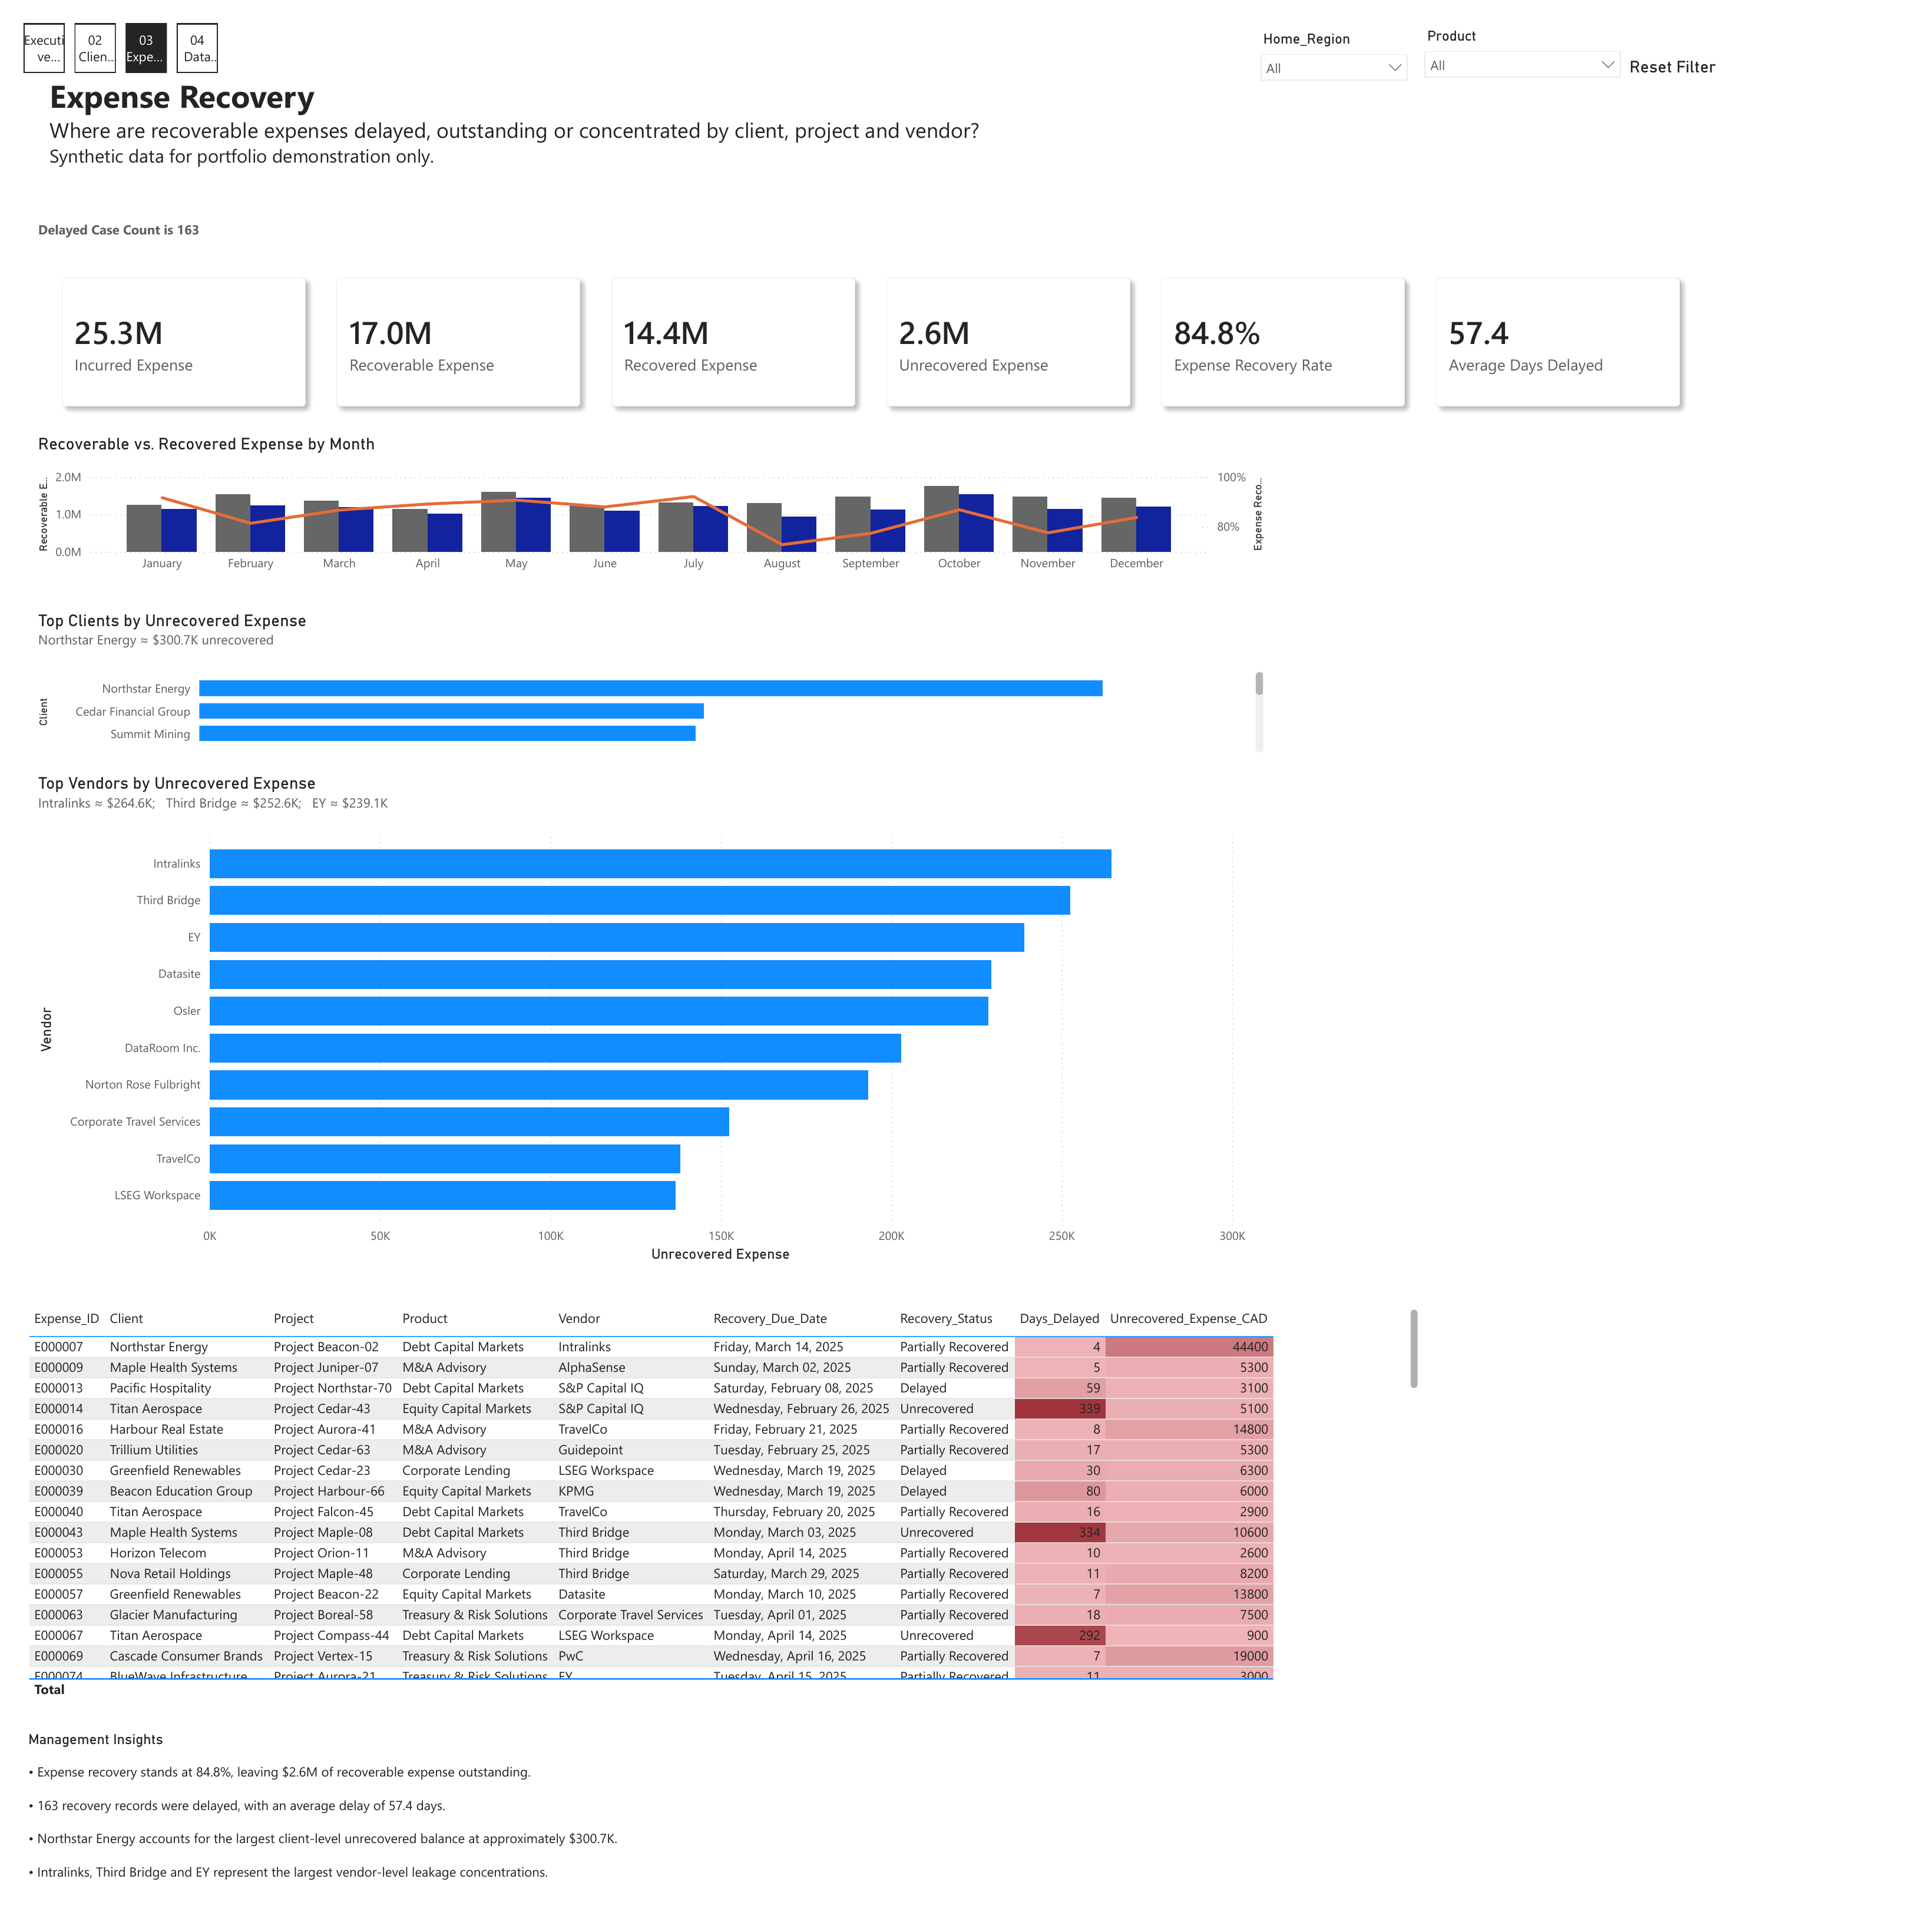

This screenshot's page, from the dashboard's own definition file:
{"tool":"powerbi","page":{"name":"03 Expense Recovery","canvas":[1920,1920],"ordinal":2},"visuals":[{"type":"cardVisual","fields":{"Data":["Fact_Expense_Recovery.Incurred Expense","Fact_Expense_Recovery.Recoverable Expense","Fact_Expense_Recovery.Recovered Expense","Fact_Performance.Unrecovered Expense","Fact_Performance.Expense Recovery Rate","Fact_Expense_Recovery.Average Days Delayed"]},"box":[10,196,1707.5,222.5],"z":0},{"type":"textbox","box":[22,46,1258,108],"z":1000},{"type":"lineClusteredColumnComboChart","title":"Recoverable vs. Recovered Expense by Month","fields":{"Category":["Dim_Date.Month_Label.Variation.Date Hierarchy.Month"],"Y":["Fact_Expense_Recovery.Recoverable Expense","Fact_Expense_Recovery.Recovered Expense"],"Y2":["Fact_Performance.Expense Recovery Rate"]},"box":[10,418,1258,150],"z":2000},{"type":"clusteredBarChart","title":"Top Clients by Unrecovered Expense","fields":{"Category":["Dim_Client.Client"],"Y":["Fact_Performance.Unrecovered Expense"]},"box":[10,598,1258,150],"z":3000},{"type":"slicer","fields":{"Values":["Dim_Client.Home_Region"]},"box":[1250,3.3,170,150],"z":4000},{"type":"slicer","fields":{"Values":["Dim_Product.Product"]},"box":[1416.7,0,220,150],"z":5000},{"type":"textbox","title":"Management Insights","box":[0,1740,1045,180],"z":6000},{"type":"actionButton","title":"Reset Filter","box":[1636.2,33.8,111.2,21.2],"z":7000},{"type":"pageNavigator","box":[0,0,200,50],"z":8000},{"type":"clusteredBarChart","title":"Top Vendors by Unrecovered Expense","fields":{"Category":["Fact_Expense_Recovery.Vendor"],"Y":["Fact_Performance.Unrecovered Expense"]},"box":[10,764,1240,502.5],"z":9000},{"type":"tableEx","fields":{"Values":["Fact_Expense_Recovery.Expense_ID","Dim_Client.Client","Fact_Expense_Recovery.Project","Dim_Product.Product","Fact_Expense_Recovery.Vendor","Fact_Expense_Recovery.Recovery_Due_Date","Fact_Expense_Recovery.Recovery_Status","Fact_Expense_Recovery.Days_Delayed","Fact_Expense_Recovery.Unrecovered_Expense_CAD"]},"box":[0,1304,1426,408],"z":10000}]}

Visuals, with their boxes in screenshot pixels (x1, y1, x2, y2), scaled from the page's 1920x1920 canvas onto the 1932x1932 screenshot:
cardVisual - Fact_Expense_Recovery.Incurred Expense x Fact_Expense_Recovery.Recoverable Expense: {"x1": 10, "y1": 197, "x2": 1728, "y2": 421}
textbox: {"x1": 22, "y1": 47, "x2": 1288, "y2": 155}
"Recoverable vs. Recovered Expense by Month" lineClusteredColumnComboChart: {"x1": 10, "y1": 421, "x2": 1276, "y2": 571}
"Top Clients by Unrecovered Expense" clusteredBarChart: {"x1": 10, "y1": 602, "x2": 1276, "y2": 753}
slicer - Dim_Client.Home_Region: {"x1": 1258, "y1": 4, "x2": 1429, "y2": 154}
slicer - Dim_Product.Product: {"x1": 1425, "y1": 0, "x2": 1647, "y2": 151}
"Management Insights" textbox: {"x1": 0, "y1": 1751, "x2": 1051, "y2": 1931}
"Reset Filter" actionButton: {"x1": 1646, "y1": 34, "x2": 1758, "y2": 55}
pageNavigator: {"x1": 0, "y1": 0, "x2": 201, "y2": 50}
"Top Vendors by Unrecovered Expense" clusteredBarChart: {"x1": 10, "y1": 769, "x2": 1258, "y2": 1275}
tableEx - Fact_Expense_Recovery.Expense_ID x Dim_Client.Client: {"x1": 0, "y1": 1312, "x2": 1435, "y2": 1723}
